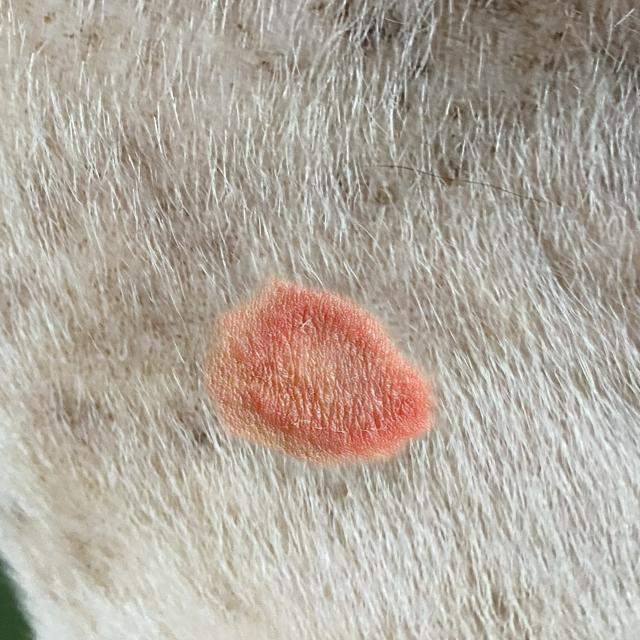ringworm: (190, 283, 447, 472)
